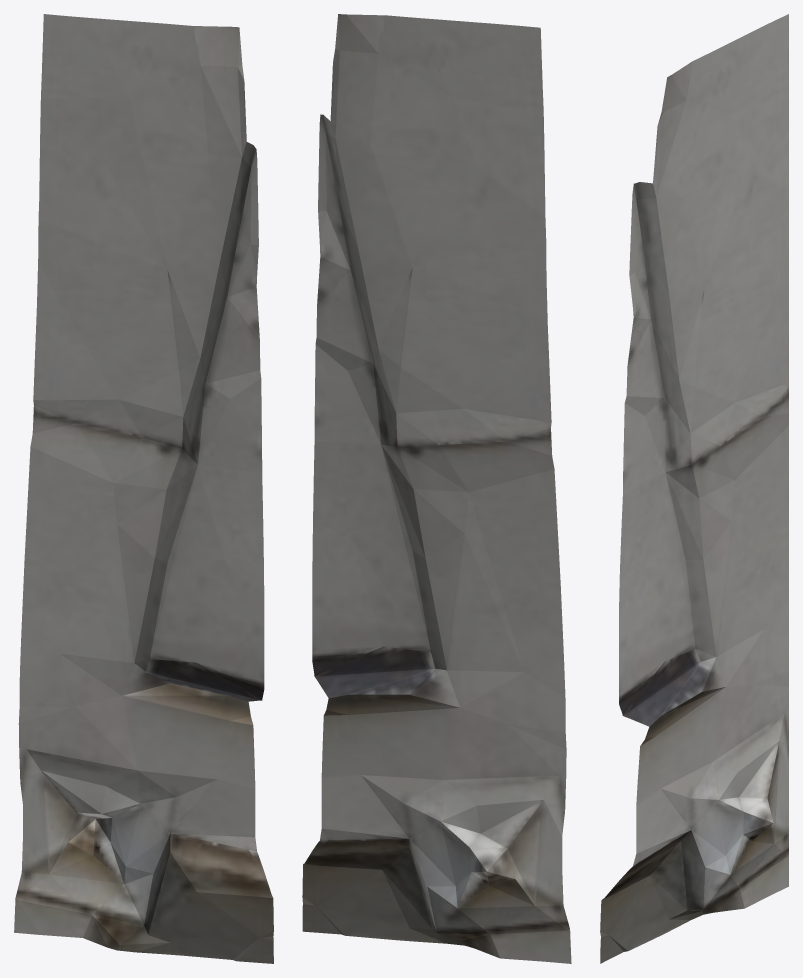
3 views of the same model, side by side, from view 1: azimuth 30°, elevation 25°; view 2: azimuth 210°, elevation 25°; view 3: azimuth 270°, elevation 25° (orthographic). The views are drawn at different scales.
Bounding box in the file's own units: 0.3132 × 1.67 × 0.323.
Materials: 1 (1 with a texture image).
